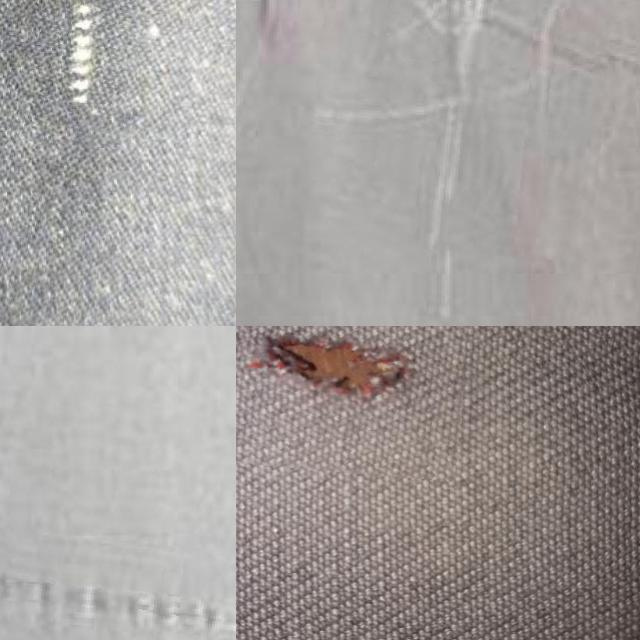other: (236, 326, 469, 478)
stains: (311, 0, 615, 258), (0, 534, 236, 640), (19, 0, 142, 147)
